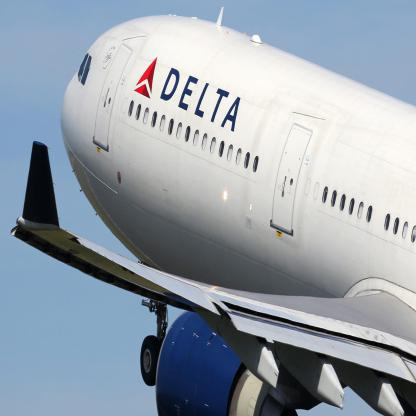CIV_Plane: (9, 5, 415, 415)
